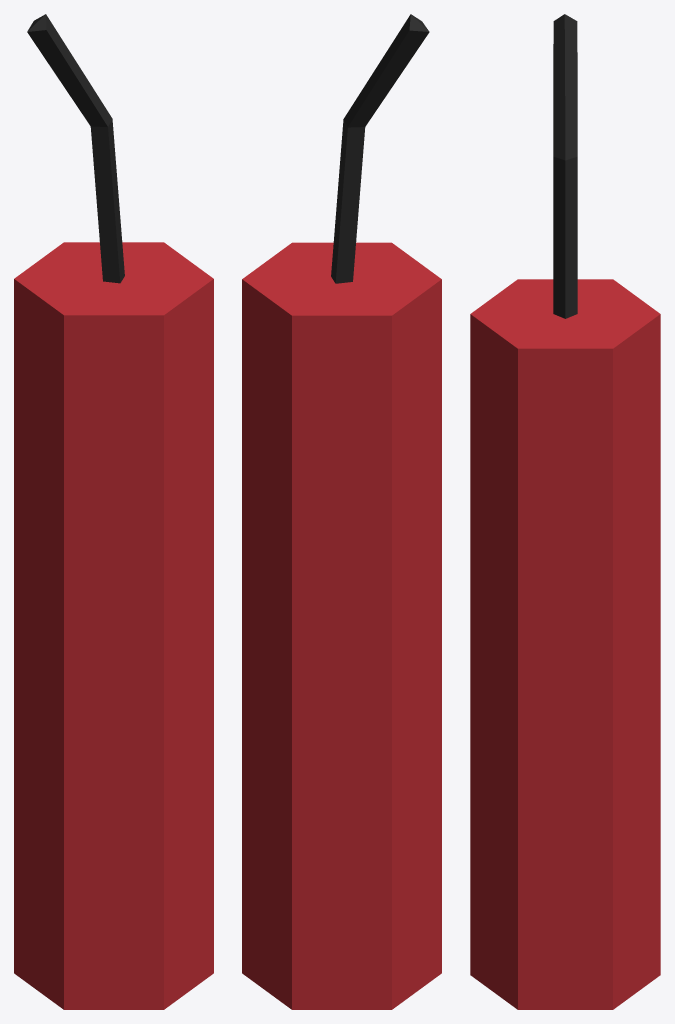
The model's file is weapons_dynamite.fbx.
3 renders of one model, left to right at view 1: azimuth 30°, elevation 25°; view 2: azimuth 150°, elevation 25°; view 3: azimuth 270°, elevation 25°, orthographic. The views are drawn at different scales.
Visible parts, largest first — view 1: weapons_dynamite; view 2: weapons_dynamite; view 3: weapons_dynamite.
Boxes of the visible parts, x1,y1,x2,y2 form: weapons_dynamite: (14,14,213,1009); weapons_dynamite: (242,14,441,1009); weapons_dynamite: (470,14,660,1009).
Size of the model in its own units: 34.77 by 200 by 37.09.
